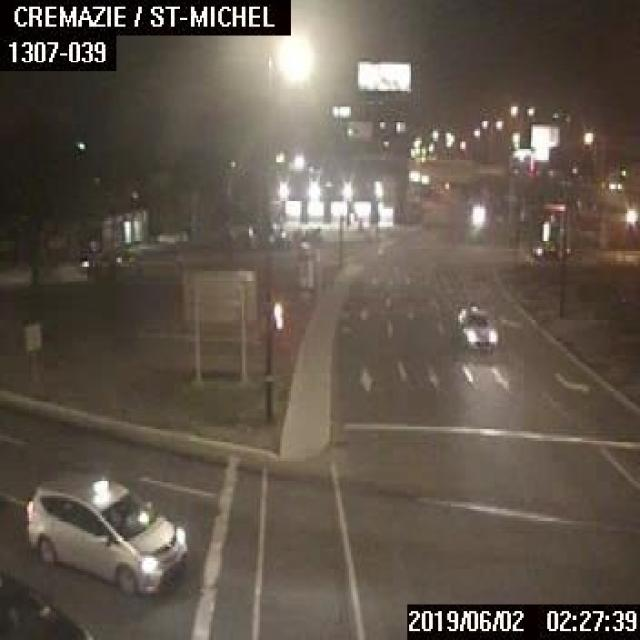vehicle: (26, 469, 186, 595), (0, 571, 91, 638), (455, 300, 498, 349), (532, 238, 569, 261)
